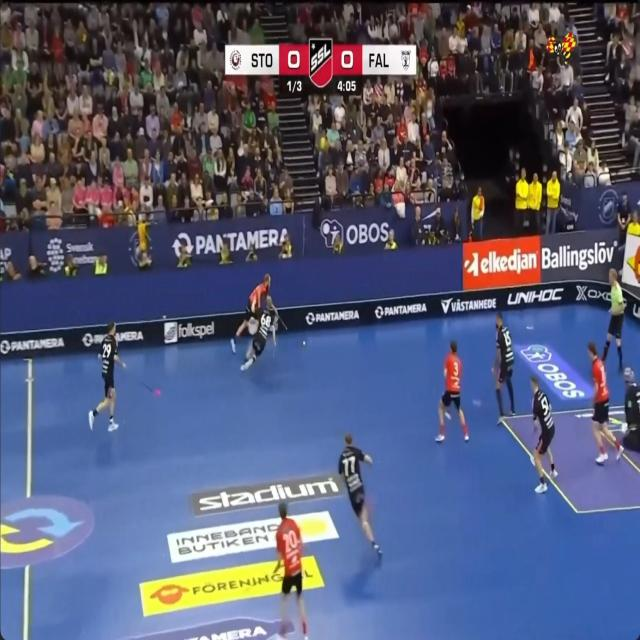Balls: (303, 341, 306, 346)
player: (338, 434, 381, 559), (587, 341, 623, 465), (276, 504, 308, 639), (89, 323, 125, 431), (436, 341, 468, 442), (231, 273, 270, 351), (531, 376, 557, 493), (240, 295, 276, 370), (601, 268, 625, 371), (492, 312, 514, 422), (623, 367, 640, 451)
stick: (138, 379, 161, 395), (273, 306, 287, 330)
